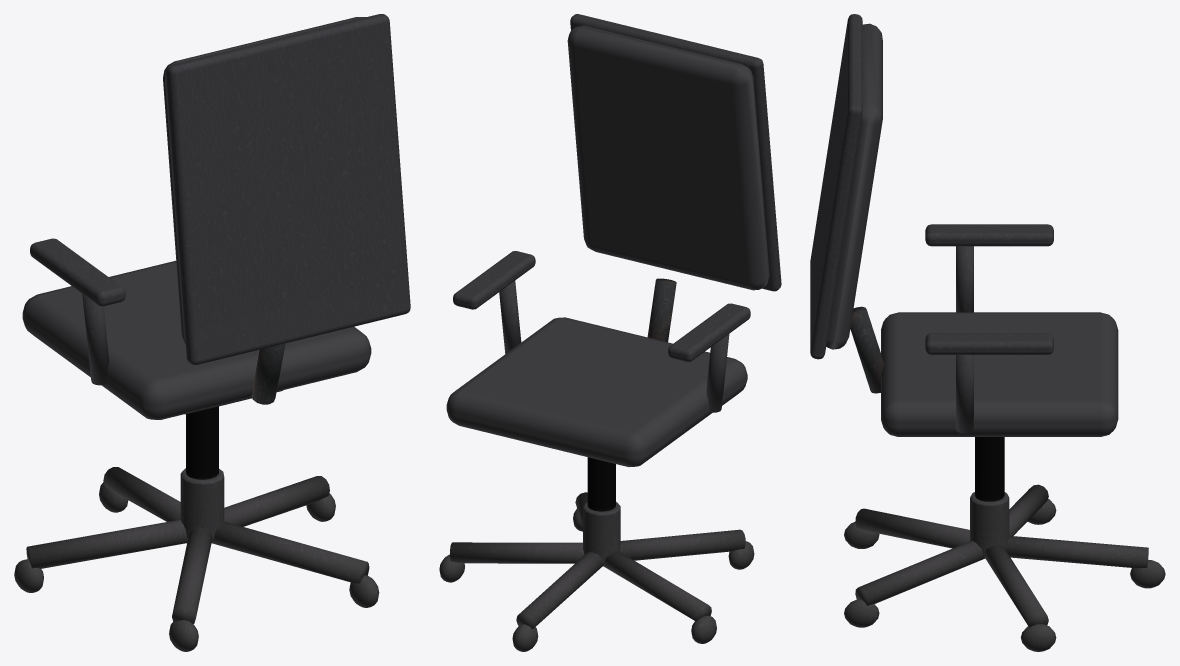
The model's file is silla_oficina.glb.
The picture shows the model from 3 angles, left to right: view 1: azimuth 30°, elevation 25°; view 2: azimuth 150°, elevation 25°; view 3: azimuth 270°, elevation 25°; orthographic projection. The views are drawn at different scales.
Visible parts, largest first — view 1: silla_oficina; view 2: silla_oficina; view 3: silla_oficina.
Boxes of the visible parts, x1,y1,x2,y2 form: silla_oficina: (14,14,410,651); silla_oficina: (439,14,781,651); silla_oficina: (810,14,1165,651).
Size of the model in its own units: 0.6567 by 1.18 by 0.7188.
Materials: 1 (1 with a texture image).
